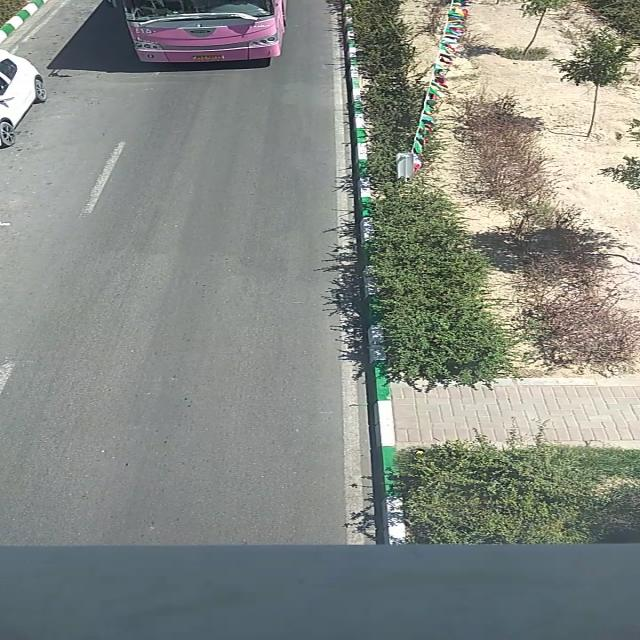bus: (110, 0, 288, 63)
car: (0, 46, 45, 153)
